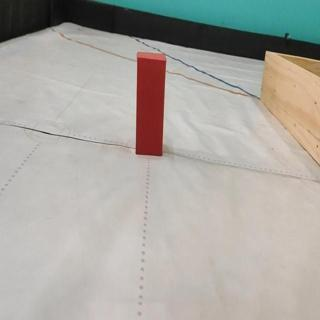redbox: (135, 51, 166, 156)
